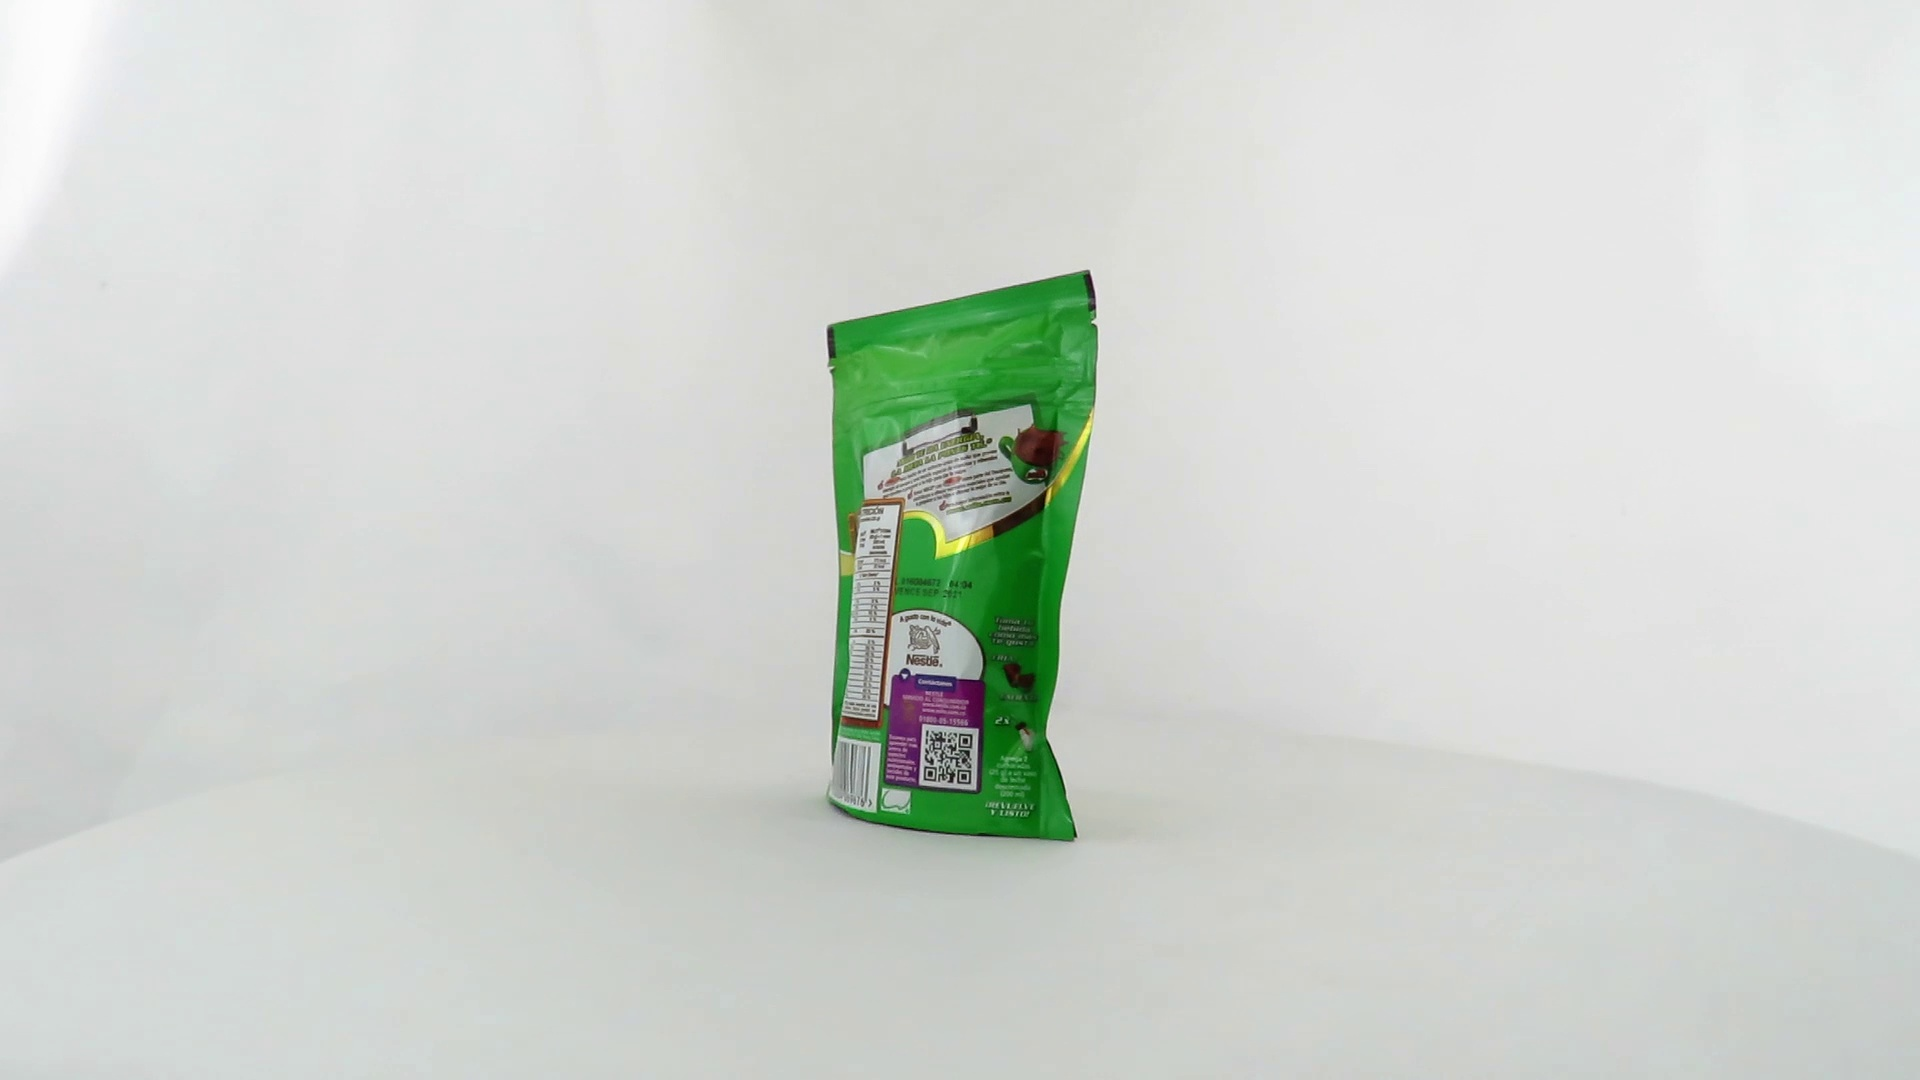COL0170203DYP10000: (816, 264, 1105, 848)
